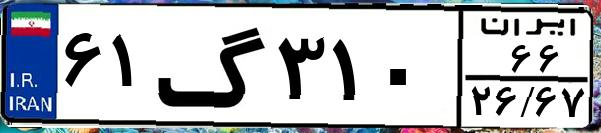0: (385, 28, 445, 110)
1: (330, 28, 385, 110), (110, 28, 156, 98)
2: (470, 70, 495, 125)
3: (270, 28, 330, 110)
6: (57, 26, 110, 100), (537, 27, 568, 80), (508, 27, 537, 80), (495, 70, 520, 125), (535, 70, 560, 125)
7: (560, 70, 590, 125)
گ: (156, 12, 270, 120)
